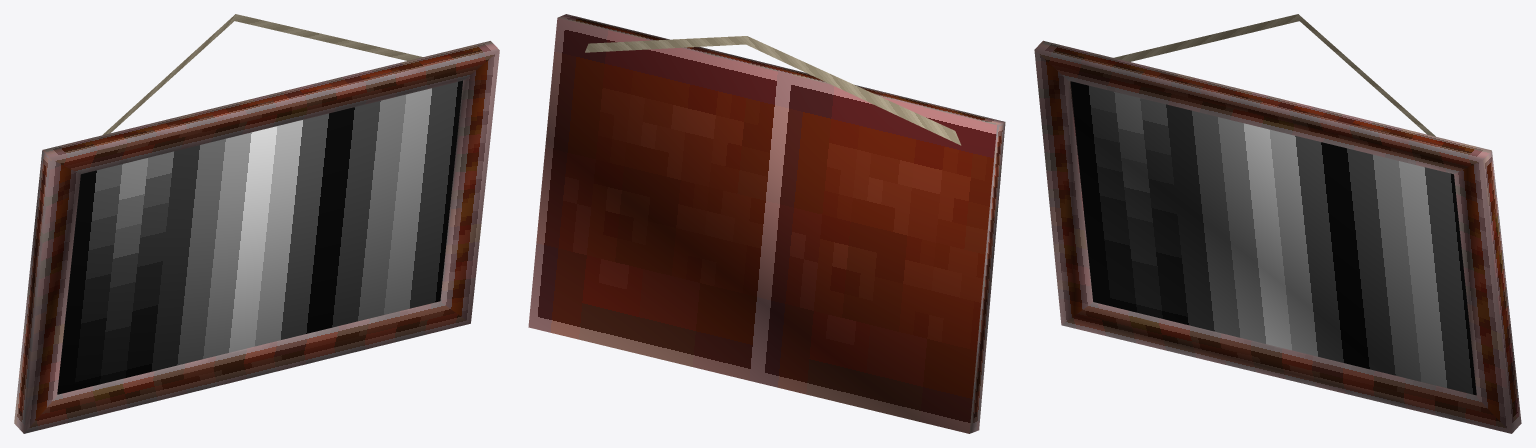
The model's file is int_oth_awardT.dae.
The picture shows the model from 3 angles, left to right: view 1: azimuth 30°, elevation 25°; view 2: azimuth 150°, elevation 25°; view 3: azimuth 330°, elevation 25°; orthographic projection. The views are drawn at different scales.
Parts seen in each view (by area): view 1: int_oth_awardT; view 2: int_oth_awardT; view 3: int_oth_awardT.
Boxes of the visible parts, bbox=[...] form: int_oth_awardT: bbox=[14, 14, 499, 433]; int_oth_awardT: bbox=[528, 14, 1005, 433]; int_oth_awardT: bbox=[1034, 14, 1521, 433].
Size of the model in its own units: 30.88 by 23.45 by 4.92.
Materials: 4 (4 with a texture image).
